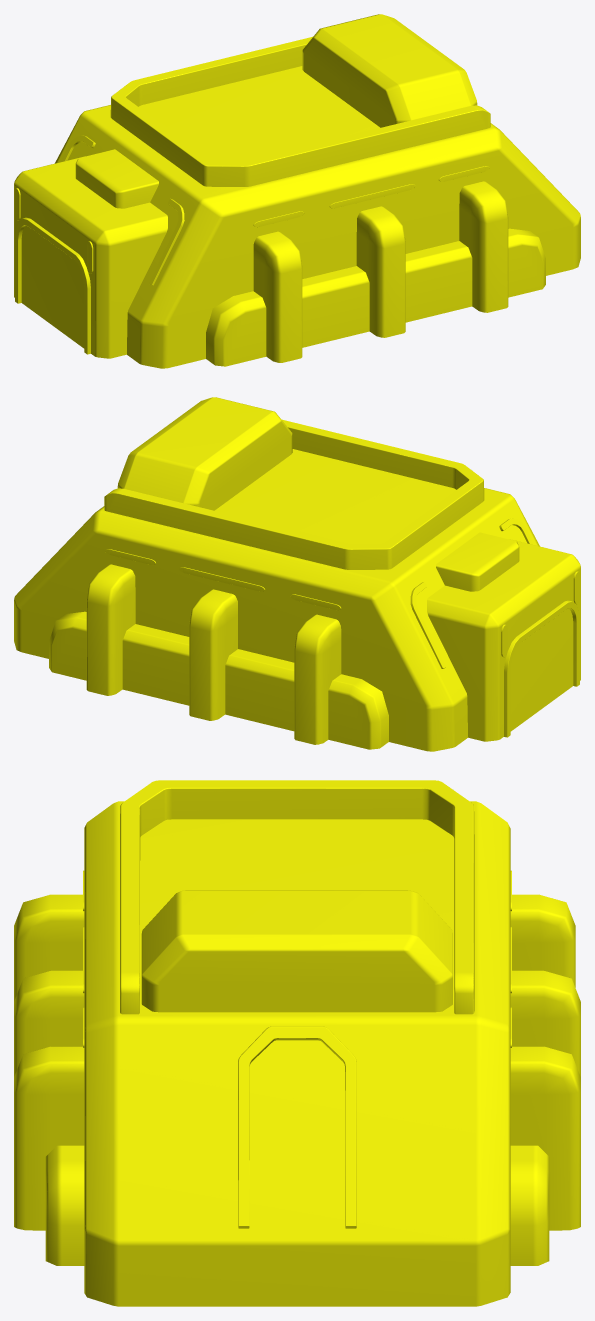
File: resource_warehouse.glb
The picture shows the model from 3 angles, top to bottom: view 1: azimuth 30°, elevation 25°; view 2: azimuth 150°, elevation 25°; view 3: azimuth 270°, elevation 25°; orthographic projection. The views are drawn at different scales.
Visible parts, largest first — view 1: Resource_warehouse; view 2: Resource_warehouse; view 3: Resource_warehouse.
Part boxes in pixels (left/top/right/bottom): Resource_warehouse: left=14, top=14, right=580, bottom=368; Resource_warehouse: left=14, top=397, right=580, bottom=751; Resource_warehouse: left=14, top=780, right=580, bottom=1306.
Bounding box in the file's own units: 16.1 × 6.42 × 11.11.
Materials: 1 (1 with a texture image).
